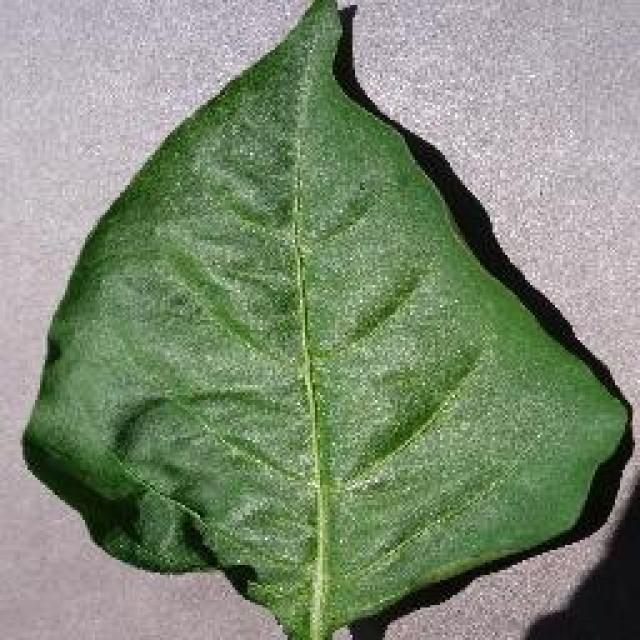Leaf: (15, 18, 640, 585)
